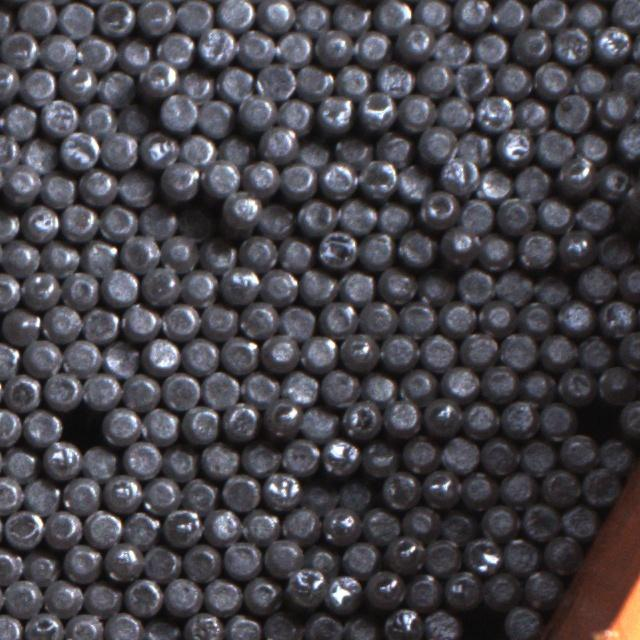tool: (418, 187, 458, 227), (400, 434, 440, 474), (320, 438, 360, 478), (162, 506, 202, 546), (340, 398, 380, 438), (140, 264, 180, 304), (262, 396, 302, 436), (220, 264, 260, 304), (580, 466, 620, 506), (282, 566, 322, 606), (365, 566, 404, 607), (420, 466, 459, 506), (522, 567, 562, 606), (62, 542, 101, 582), (577, 262, 616, 302), (262, 469, 302, 508), (42, 369, 81, 409), (481, 568, 520, 608), (541, 466, 580, 506), (138, 129, 178, 168), (359, 438, 398, 478), (520, 500, 560, 539), (158, 159, 198, 198), (220, 192, 259, 232), (357, 88, 395, 129), (123, 438, 162, 477), (380, 469, 419, 508), (558, 431, 597, 470), (42, 439, 81, 478), (315, 91, 354, 130), (222, 538, 261, 577), (61, 474, 100, 513), (2, 372, 41, 411), (338, 330, 377, 369), (161, 371, 200, 410), (404, 570, 443, 609), (381, 396, 420, 435), (180, 404, 219, 443), (21, 269, 60, 308), (238, 299, 277, 338), (262, 536, 301, 575), (322, 571, 361, 610), (513, 162, 552, 201), (541, 532, 580, 571), (553, 90, 591, 130), (100, 266, 138, 306), (3, 508, 41, 548), (556, 226, 594, 266), (442, 568, 480, 608), (118, 233, 158, 271), (58, 63, 98, 101), (556, 154, 596, 192), (438, 224, 478, 262), (201, 369, 239, 408), (1, 306, 40, 344), (320, 368, 359, 406), (221, 472, 260, 510), (397, 91, 435, 130), (378, 264, 417, 302), (81, 370, 119, 409), (43, 508, 82, 546), (441, 434, 479, 473), (459, 468, 497, 507), (499, 330, 537, 369), (575, 194, 614, 232), (120, 371, 158, 410), (102, 473, 141, 511), (596, 362, 634, 401), (180, 335, 218, 374), (117, 168, 156, 206), (318, 230, 357, 268), (296, 195, 334, 234), (495, 194, 534, 232), (1, 238, 40, 276), (422, 396, 461, 434), (60, 131, 99, 169), (596, 230, 635, 268), (142, 336, 181, 374), (454, 59, 492, 98), (182, 542, 220, 581), (140, 406, 179, 444), (260, 332, 299, 370), (21, 202, 59, 241), (596, 298, 635, 336), (318, 297, 357, 335), (137, 58, 176, 96), (142, 542, 180, 581), (535, 127, 573, 166), (158, 91, 196, 130), (200, 234, 238, 273), (241, 438, 280, 476), (553, 23, 591, 62), (221, 401, 259, 440), (463, 535, 501, 574), (260, 265, 298, 304), (388, 531, 427, 569), (3, 164, 40, 204), (379, 332, 417, 370), (22, 407, 60, 445), (79, 166, 117, 204), (298, 266, 336, 304), (0, 29, 38, 67), (536, 194, 574, 232), (77, 33, 115, 71), (62, 337, 100, 375), (557, 364, 595, 402), (502, 535, 540, 573), (219, 335, 257, 373), (101, 406, 139, 444), (180, 266, 218, 304), (241, 156, 279, 194), (500, 468, 538, 506), (472, 28, 510, 66), (197, 26, 235, 64), (397, 227, 435, 265), (279, 160, 317, 198), (122, 509, 160, 547), (239, 232, 277, 270), (281, 436, 319, 474), (519, 437, 557, 475), (22, 337, 60, 375), (203, 576, 241, 614), (532, 59, 570, 97), (200, 440, 238, 478), (103, 542, 141, 580), (216, 64, 254, 102), (480, 362, 518, 400), (180, 475, 218, 513), (203, 506, 241, 544), (499, 398, 537, 436), (432, 28, 470, 66), (477, 232, 515, 270), (424, 536, 462, 574), (3, 578, 41, 616), (594, 88, 632, 126), (396, 162, 434, 200), (141, 475, 179, 513), (516, 229, 554, 267), (458, 328, 496, 366), (43, 303, 81, 341), (278, 302, 316, 340), (81, 442, 119, 480), (160, 301, 198, 339), (398, 297, 436, 335), (124, 577, 162, 615), (415, 58, 453, 96), (496, 126, 534, 164), (241, 574, 279, 612), (164, 576, 202, 614), (593, 24, 631, 62), (537, 331, 575, 369), (84, 508, 122, 546), (138, 202, 176, 240), (41, 97, 79, 135), (22, 476, 60, 514), (196, 96, 234, 134), (323, 504, 361, 542), (537, 399, 575, 437), (480, 502, 518, 540), (201, 157, 239, 195), (418, 125, 456, 163), (511, 24, 549, 62), (596, 162, 634, 200), (161, 232, 199, 270), (199, 300, 237, 338), (299, 402, 337, 440), (236, 92, 274, 130), (120, 300, 158, 338), (41, 238, 79, 276), (334, 132, 372, 170), (258, 122, 296, 160), (362, 505, 400, 543), (176, 201, 214, 239), (61, 406, 99, 444), (481, 436, 518, 475), (313, 27, 352, 64), (257, 60, 294, 99), (598, 435, 637, 472), (437, 154, 476, 191), (278, 233, 315, 271), (178, 131, 216, 168), (354, 27, 391, 65), (300, 333, 337, 371), (436, 92, 474, 129), (19, 67, 57, 104), (100, 130, 137, 168), (97, 66, 134, 104), (319, 160, 357, 197), (577, 332, 614, 370), (399, 365, 437, 402), (476, 93, 513, 131), (375, 60, 413, 97), (81, 305, 118, 343), (556, 298, 594, 335), (441, 362, 478, 400), (333, 61, 371, 98), (294, 62, 332, 99), (358, 298, 396, 335), (375, 128, 413, 165), (39, 33, 77, 70), (457, 195, 494, 233), (156, 29, 193, 67), (276, 93, 314, 130), (476, 164, 513, 202), (62, 268, 99, 306), (494, 59, 531, 97), (338, 196, 376, 233), (240, 369, 278, 406), (376, 197, 414, 234), (22, 546, 59, 584), (461, 399, 499, 436), (516, 297, 554, 334), (80, 237, 118, 274), (237, 29, 274, 67), (241, 505, 279, 542), (454, 128, 491, 166), (102, 338, 139, 376), (572, 61, 610, 98), (1, 444, 38, 482), (98, 202, 136, 239), (402, 500, 440, 537), (359, 159, 396, 197), (21, 134, 58, 172), (574, 126, 612, 163), (61, 202, 98, 240), (282, 503, 320, 540), (116, 35, 154, 72), (338, 476, 376, 513), (560, 501, 598, 538), (418, 268, 456, 305), (437, 507, 475, 544), (44, 578, 83, 614), (177, 66, 216, 102), (577, 399, 616, 435), (275, 29, 312, 66), (419, 332, 456, 369), (2, 101, 39, 138), (397, 21, 434, 58), (438, 298, 475, 335), (257, 200, 294, 237), (359, 368, 396, 405), (162, 442, 199, 479), (358, 230, 394, 268), (458, 266, 494, 304), (282, 367, 318, 405), (496, 268, 534, 304), (338, 266, 374, 304), (40, 168, 76, 206), (534, 271, 572, 307), (502, 604, 540, 640), (301, 543, 339, 579), (382, 605, 421, 640), (477, 296, 514, 332), (514, 94, 550, 131), (342, 538, 379, 574), (84, 578, 121, 614), (519, 366, 556, 402), (58, 0, 94, 37), (80, 99, 117, 135), (217, 132, 254, 168), (301, 475, 338, 511), (116, 98, 153, 134), (96, 0, 134, 35), (463, 605, 501, 640), (295, 137, 332, 172), (332, 0, 370, 34), (423, 606, 461, 640), (136, 0, 174, 34), (17, 0, 56, 33), (176, 0, 214, 33), (303, 609, 343, 640), (294, 0, 330, 34), (256, 0, 294, 32), (374, 0, 412, 32), (490, 0, 528, 32), (570, 0, 608, 31), (24, 610, 63, 640), (64, 611, 104, 640), (262, 611, 302, 640), (104, 610, 142, 640), (530, 0, 568, 30), (452, 0, 490, 30), (216, 0, 254, 30), (184, 610, 222, 640), (225, 611, 262, 640), (414, 0, 451, 29), (344, 611, 381, 640), (613, 61, 640, 98), (142, 616, 182, 640), (615, 120, 640, 158), (616, 398, 640, 437), (616, 262, 640, 300), (617, 326, 640, 364), (0, 546, 23, 584), (611, 0, 640, 29), (0, 474, 21, 512), (0, 130, 21, 168), (0, 338, 19, 378), (0, 406, 20, 444), (0, 271, 20, 309), (621, 182, 640, 222), (0, 206, 18, 244), (0, 62, 17, 101), (0, 611, 22, 640), (0, 1, 15, 38)
